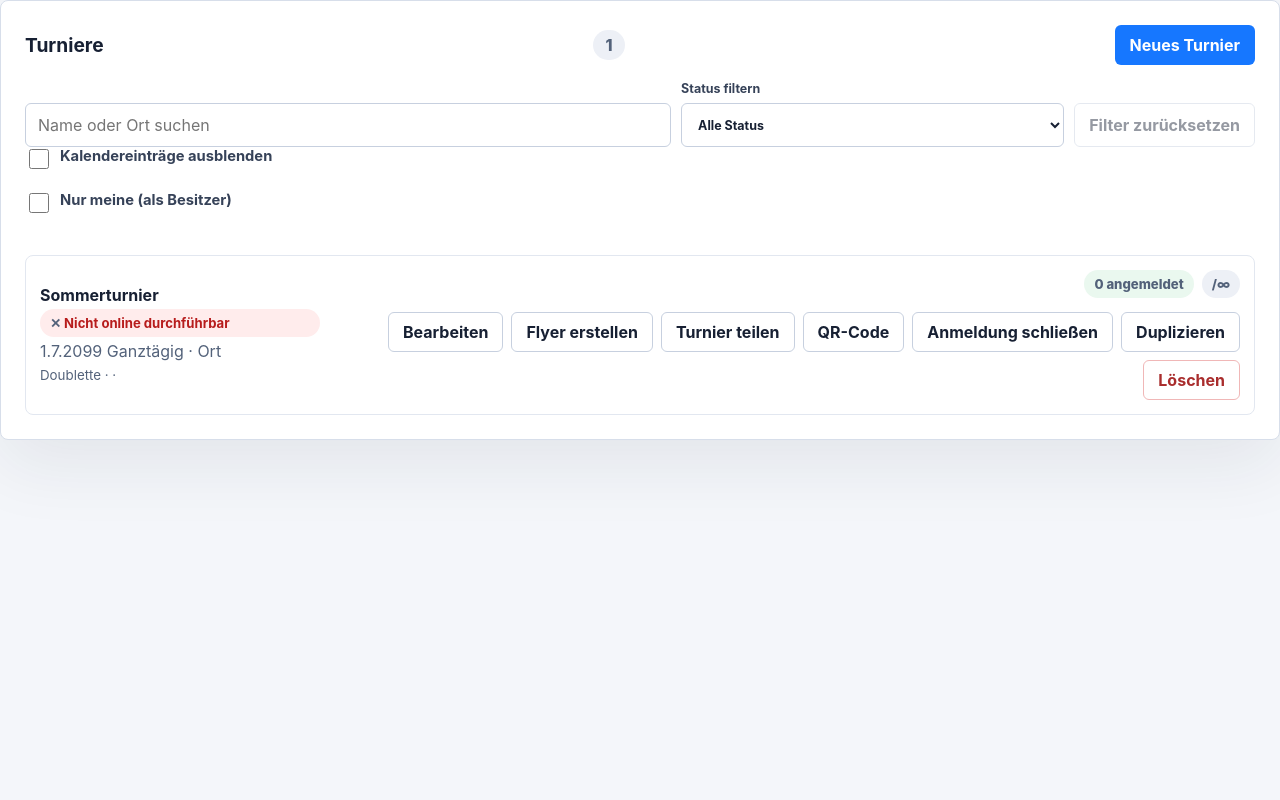
Test: Bearbeitungsrechte: Kandidatenliste › lädt die Nutzer erst beim Bearbeiten und bietet sie zum Hinzufügen an
Click the button "Bearbeiten" at (446, 332), box [388,312,504,352]
(page scrolled)
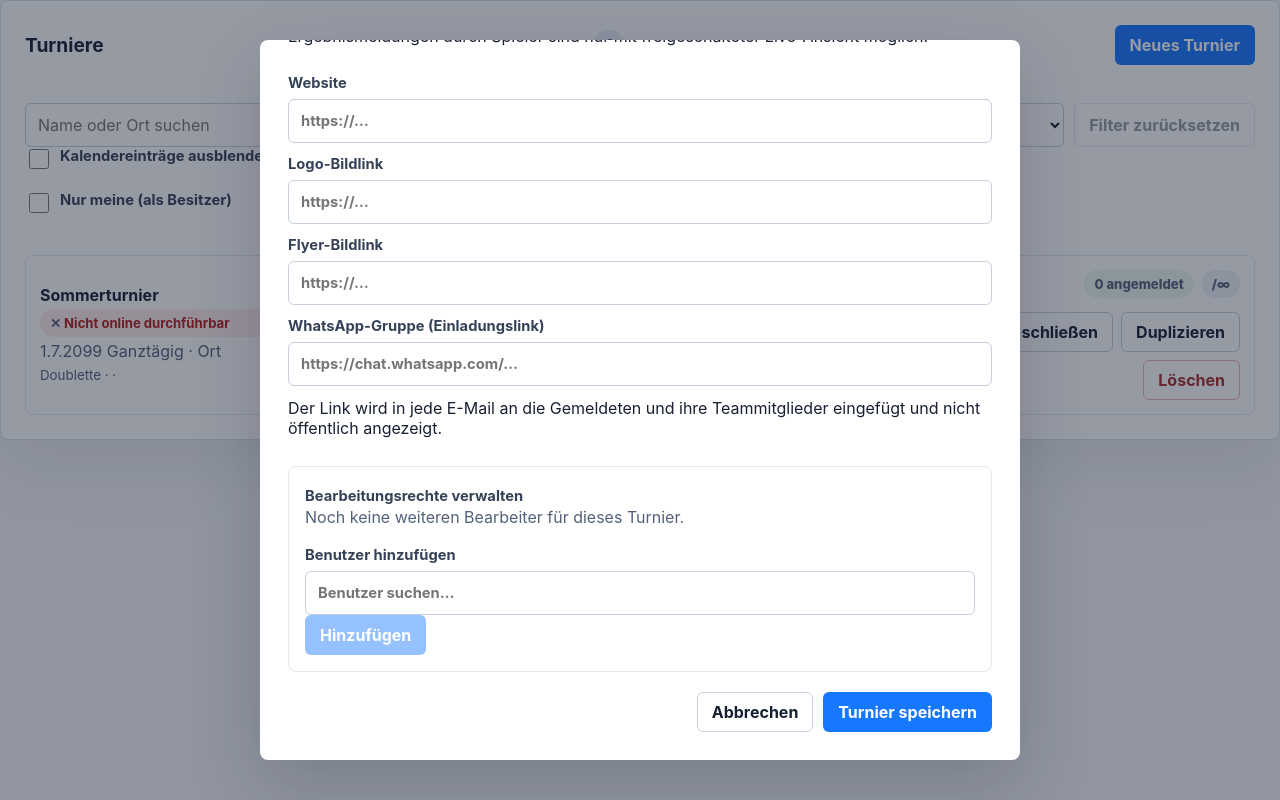
Focus the dropdown labelled "Benutzer hinzufügen" at (640, 593), box [305,571,975,615]
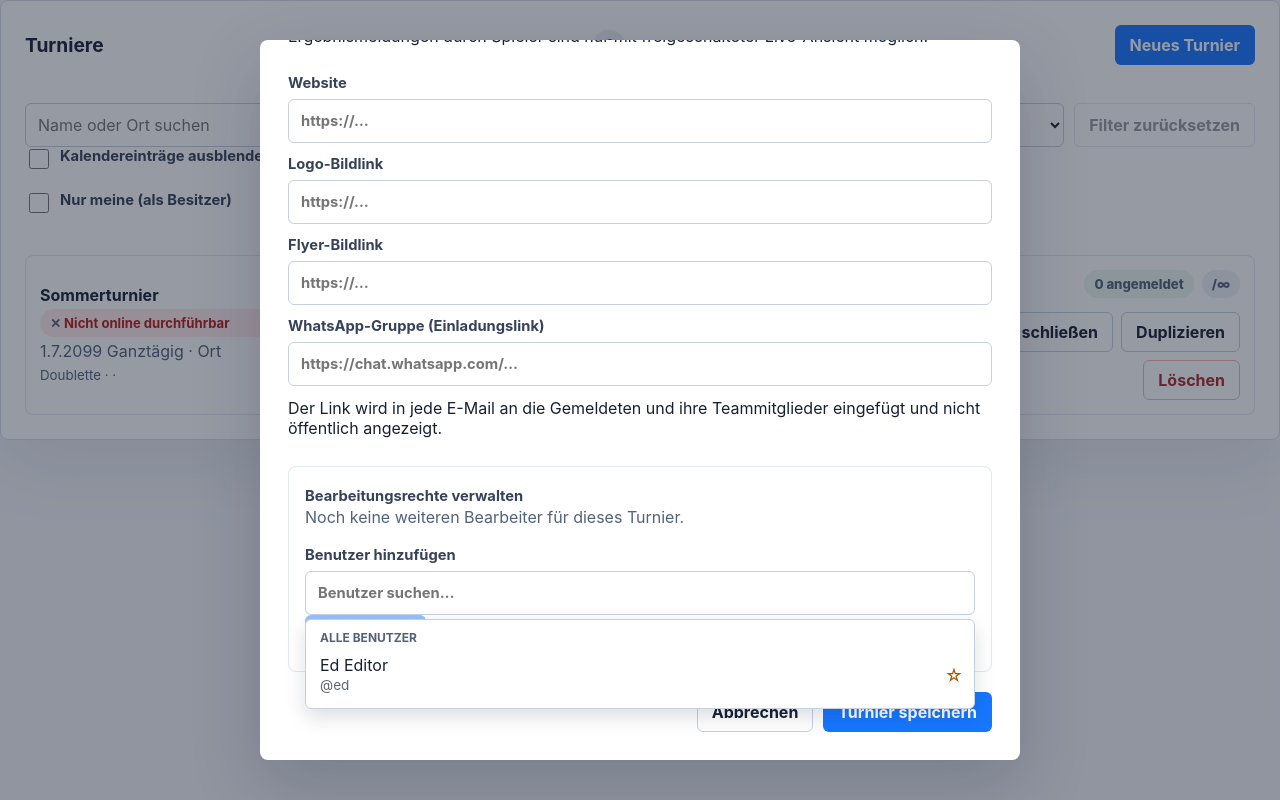
Result: the option "Ed Editor @ed" is shown at [310,647,934,704]
